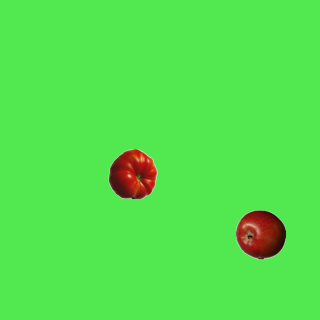Apple Braeburn: (235, 209, 285, 259)
Tomato 3: (107, 148, 157, 198)
